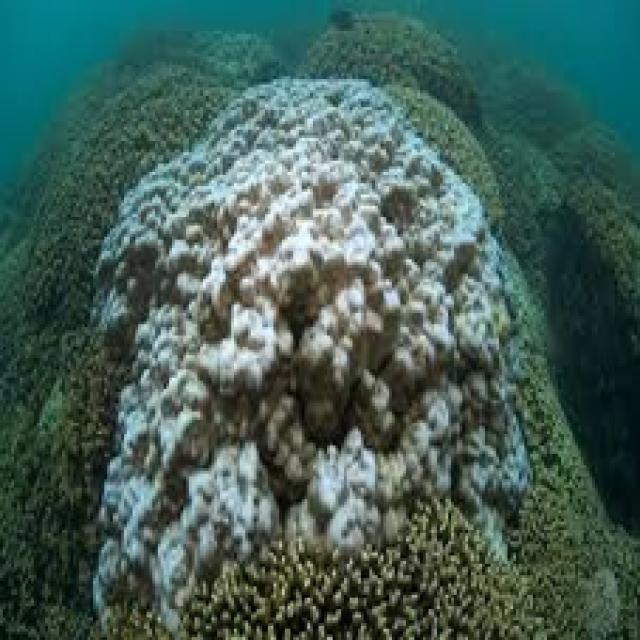Bleached: (97, 80, 528, 602)
Healthy: (1, 21, 537, 638), (181, 252, 638, 638)
